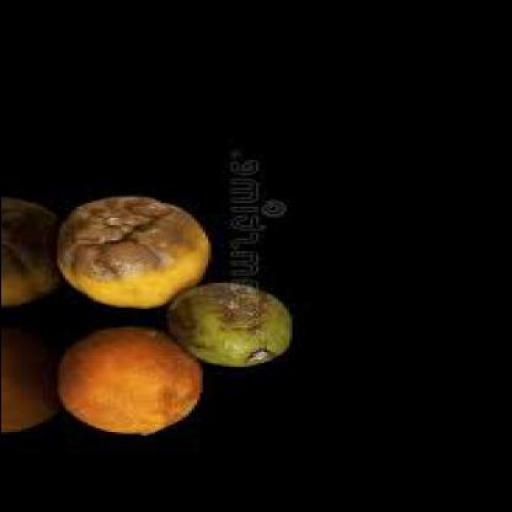biodegradable: (58, 199, 216, 311), (56, 328, 204, 438), (171, 285, 297, 369), (2, 327, 62, 436), (2, 199, 62, 307)
